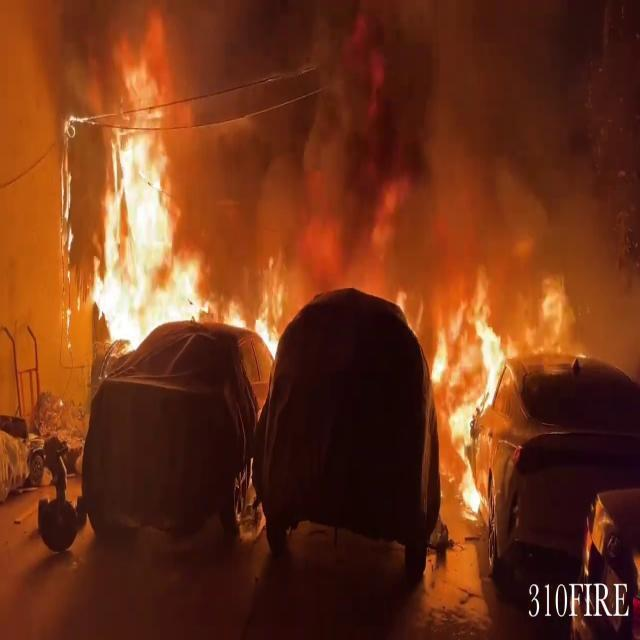Fire: (84, 61, 212, 356), (432, 289, 518, 522), (253, 285, 290, 377)
Smoke: (167, 0, 640, 360)
